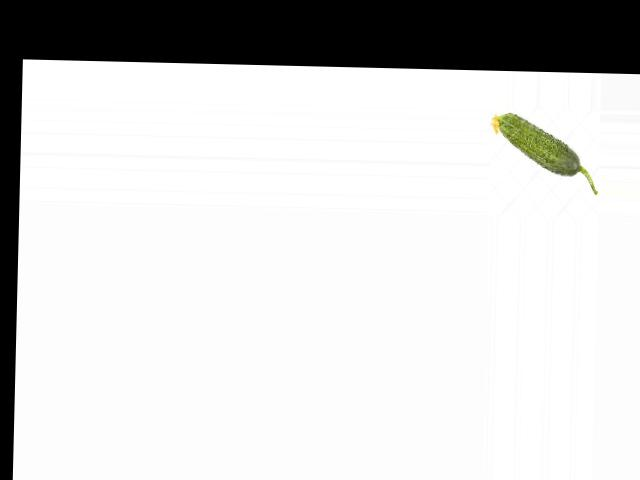cucumber: (488, 111, 598, 194)
